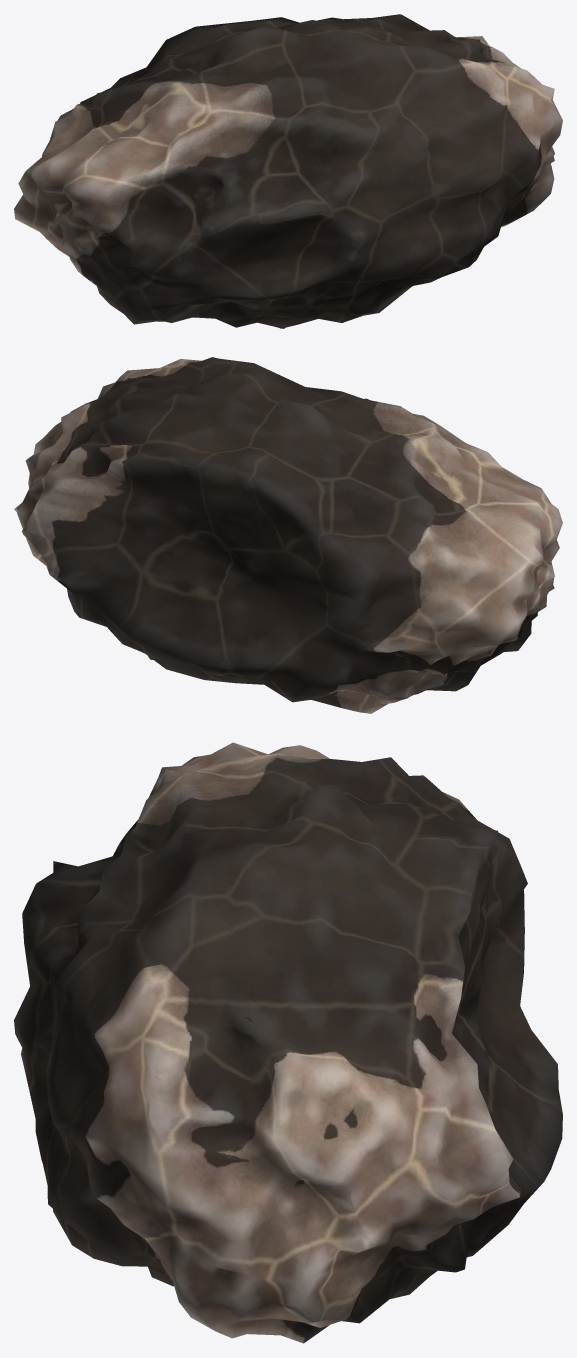
The model's file is asteroid_b.glb.
3 views of the same model, one above another, from view 1: azimuth 30°, elevation 25°; view 2: azimuth 150°, elevation 25°; view 3: azimuth 270°, elevation 25° (orthographic). The views are drawn at different scales.
Visible parts, largest first — view 1: Asteroid_B; view 2: Asteroid_B; view 3: Asteroid_B.
Boxes of the visible parts, x1=… form: Asteroid_B: x1=14, y1=14, x2=562, y2=328; Asteroid_B: x1=14, y1=357, x2=562, y2=713; Asteroid_B: x1=14, y1=742, x2=562, y2=1343.
Bounding box in the file's own units: 1.93 × 1.03 × 1.14.
Materials: 1 (1 with a texture image).
